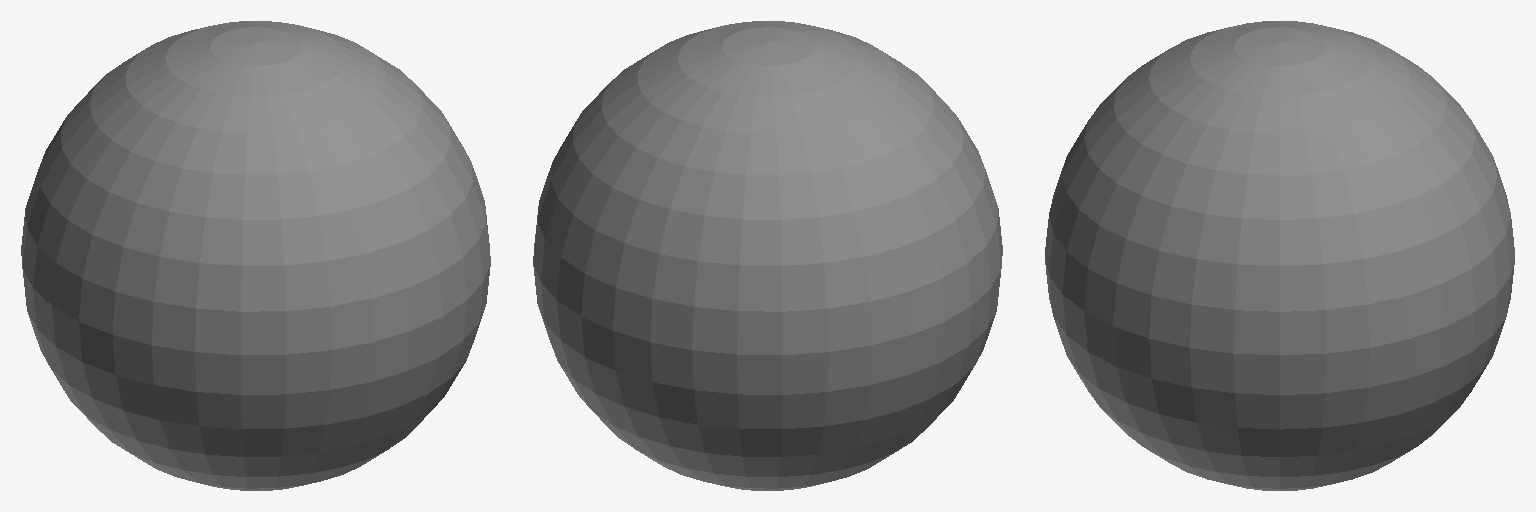
The model's file is target.obj.
The picture shows the model from 3 angles: view 1: azimuth 30°, elevation 25°; view 2: azimuth 150°, elevation 25°; view 3: azimuth 270°, elevation 25°; orthographic projection.
Visible parts, largest first — view 1: Sphere001; view 2: Sphere001; view 3: Sphere001.
Boxes of the visible parts, x1=… form: Sphere001: x1=21, y1=21, x2=490, y2=490; Sphere001: x1=533, y1=21, x2=1002, y2=490; Sphere001: x1=1045, y1=21, x2=1514, y2=490.
Bounding box in the file's own units: 40 × 40 × 40.